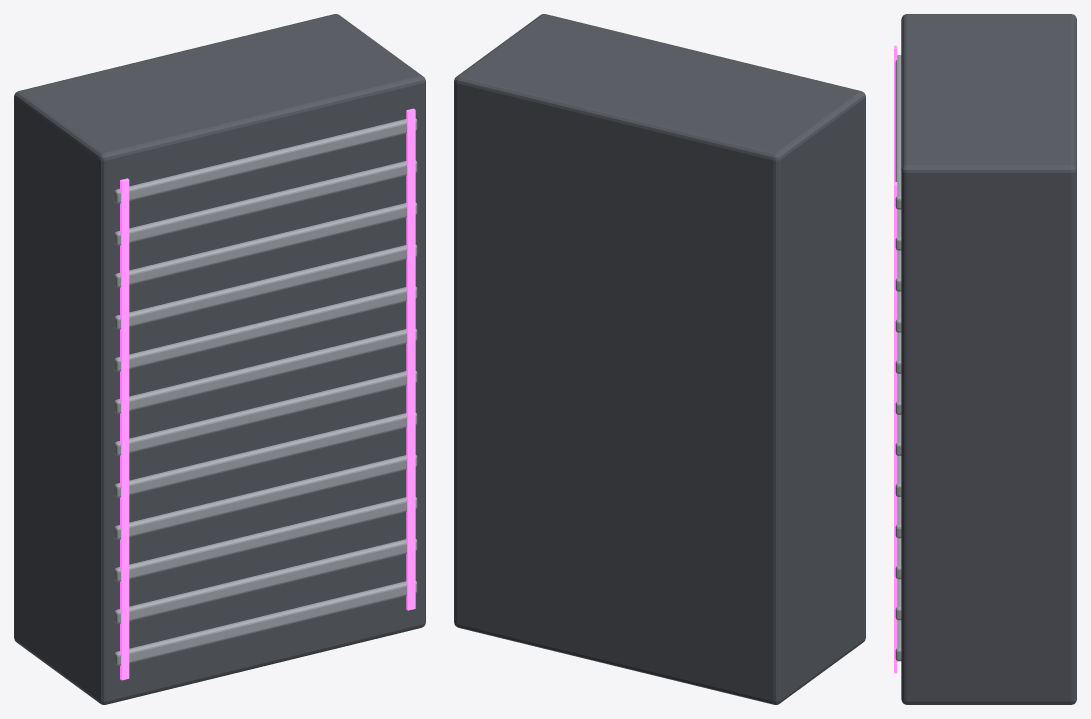
The model's file is wardrobe_ribbed.glb.
The picture shows the model from 3 angles, left to right: view 1: azimuth 30°, elevation 25°; view 2: azimuth 150°, elevation 25°; view 3: azimuth 270°, elevation 25°; orthographic projection. The views are drawn at different scales.
Parts seen in each view (by area): view 1: GD_wardrobe_ribbed__m0, GD_wardrobe_ribbed__m1, GD_wardrobe_ribbed__m2; view 2: GD_wardrobe_ribbed__m0; view 3: GD_wardrobe_ribbed__m0, GD_wardrobe_ribbed__m1, GD_wardrobe_ribbed__m2.
Boxes of the visible parts, left/top/right/bottom form: GD_wardrobe_ribbed__m0: left=14, top=14, right=425, bottom=704; GD_wardrobe_ribbed__m1: left=114, top=118, right=417, bottom=665; GD_wardrobe_ribbed__m2: left=120, top=108, right=415, bottom=680; GD_wardrobe_ribbed__m0: left=454, top=14, right=865, bottom=704; GD_wardrobe_ribbed__m0: left=901, top=14, right=1076, bottom=704; GD_wardrobe_ribbed__m1: left=895, top=55, right=901, bottom=661; GD_wardrobe_ribbed__m2: left=894, top=45, right=897, bottom=673.
Bounding box in the file's own units: 1.3 × 2.1 × 0.646.
